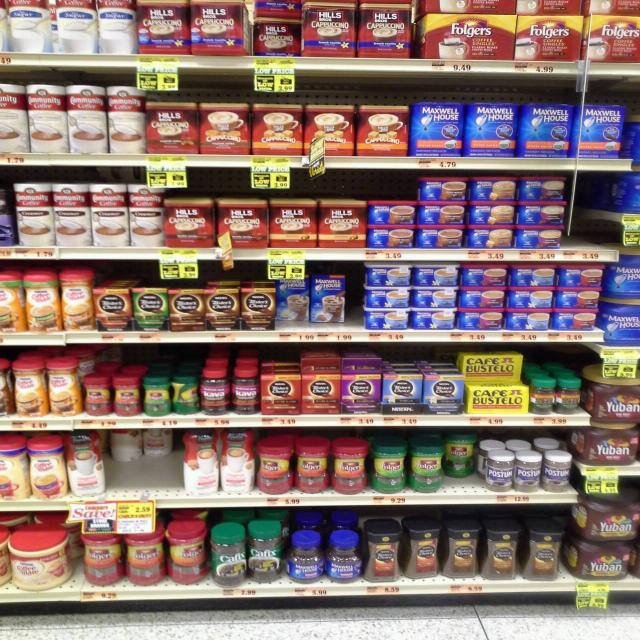void: (108, 432, 180, 498), (570, 177, 616, 251)
